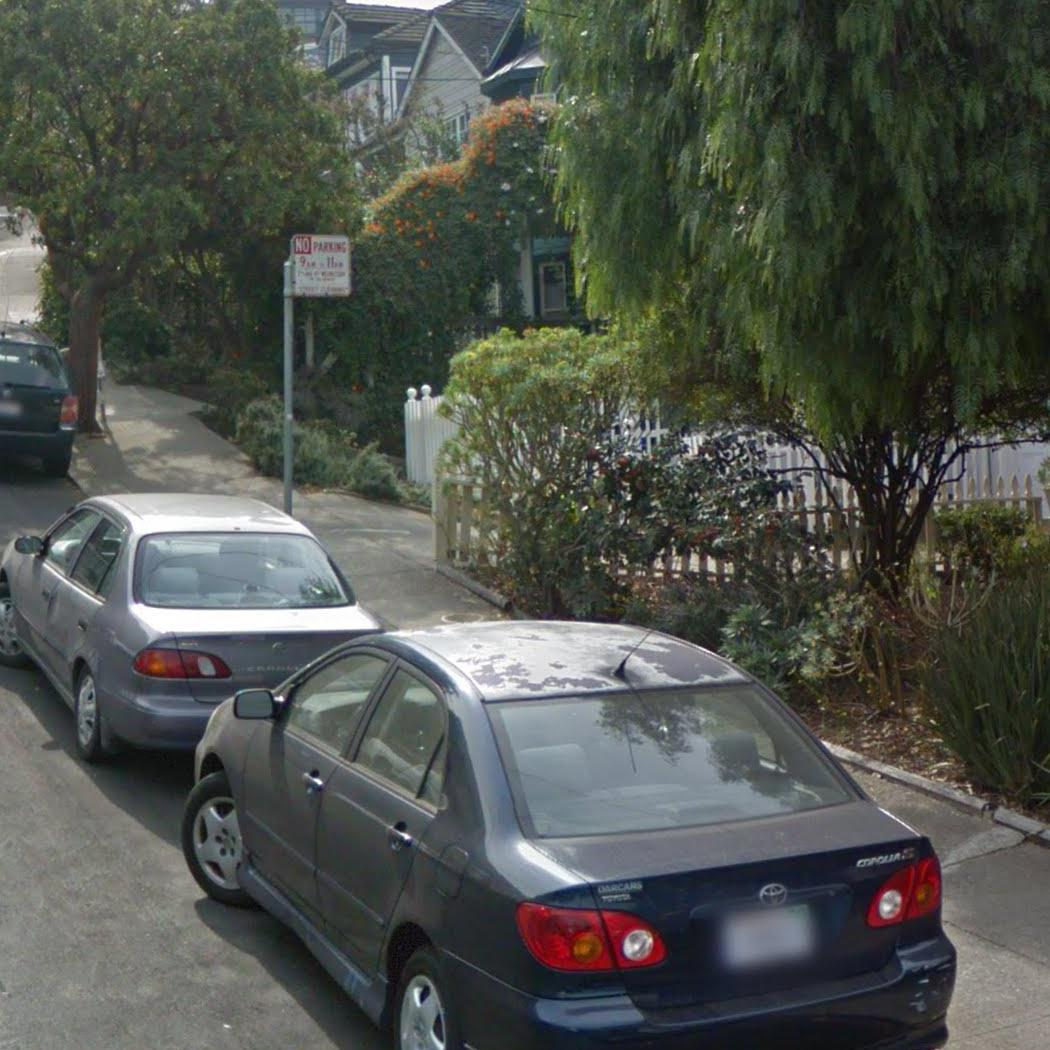No Parking: (285, 231, 353, 300)
